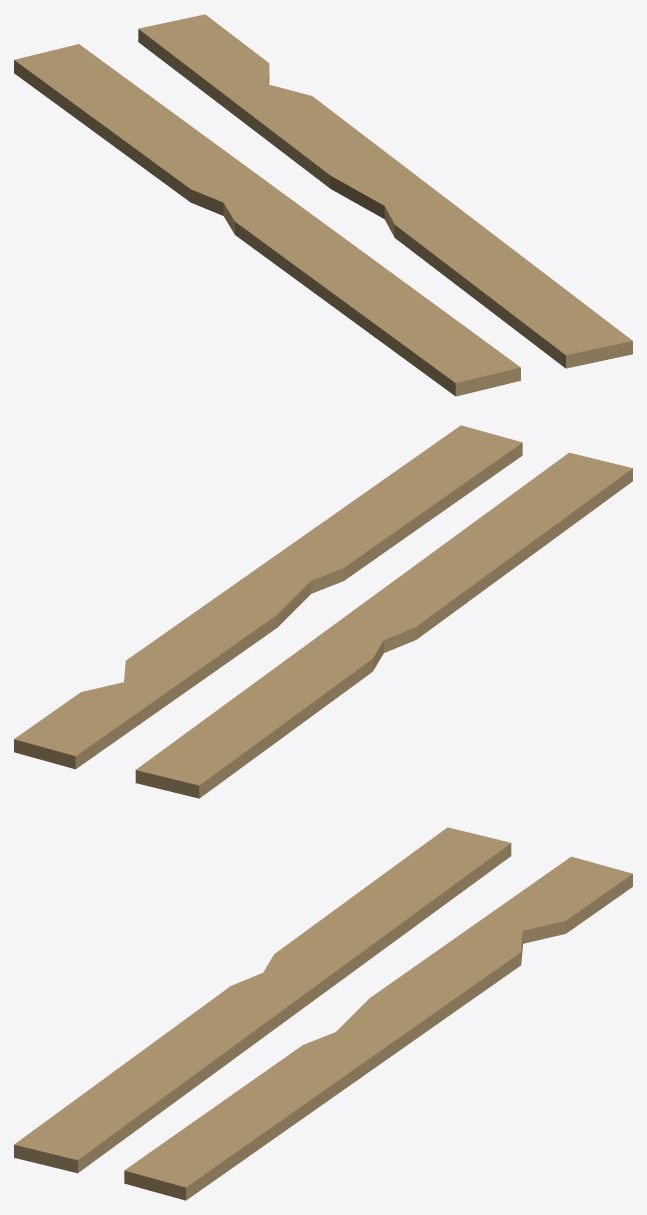
The model's file is plank.fbx.
3 renders of one model, top to bottom at view 1: azimuth 30°, elevation 25°; view 2: azimuth 150°, elevation 25°; view 3: azimuth 330°, elevation 25°, orthographic.
Parts seen in each view (by area): view 1: Prop_Fence_Boards_1_332; view 2: Prop_Fence_Boards_1_332; view 3: Prop_Fence_Boards_1_332.
Part boxes in pixels (x1,y1,x2,y2): Prop_Fence_Boards_1_332: (14, 14, 632, 396); Prop_Fence_Boards_1_332: (14, 425, 632, 798); Prop_Fence_Boards_1_332: (14, 827, 632, 1200).
Size of the model in its own units: 7.45 by 0.5 by 30.13.
